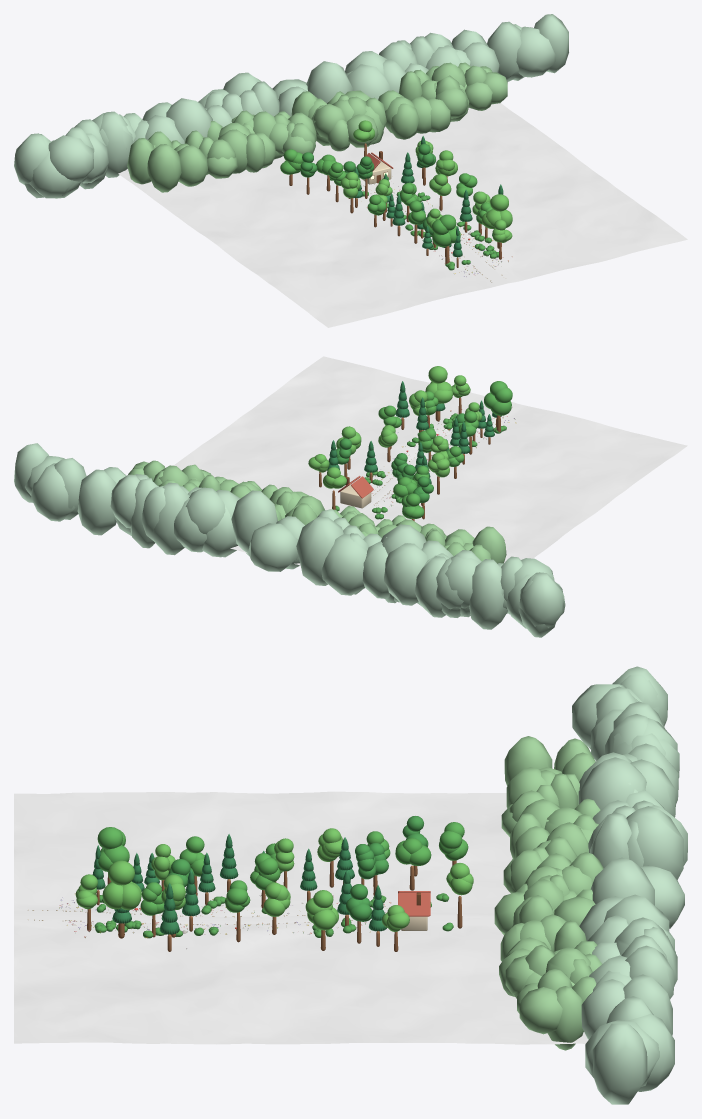
File: forest.glb
The picture shows the model from 3 angles, top to bottom: view 1: azimuth 30°, elevation 25°; view 2: azimuth 150°, elevation 25°; view 3: azimuth 270°, elevation 25°; orthographic projection. The views are drawn at different scales.
Parts seen in each view (by area): view 1: Ground, FarForest2, FarForest, Path, Bushes, FrameL.Canopy, FrameR.Canopy; view 2: Ground, FarForest2, FarForest, Bushes, FrameL.Canopy, FrameR.Canopy, Path, Tree9.Canopy, Cottage.Body; view 3: Ground, FarForest2, FarForest, Path, Bushes, FrameR.Canopy, FrameL.Canopy, Tree17.Canopy, Tree9.Canopy, Tree20.Canopy, Tree0.Canopy, Tree50.Canopy (+4 smaller).
Boxes of the visible parts, x1,y1,x2,y2 form: Ground: (118, 103, 687, 327); FarForest2: (14, 14, 568, 198); FarForest: (127, 62, 507, 192); Path: (329, 153, 509, 285); Bushes: (330, 177, 498, 270); FrameL.Canopy: (432, 214, 460, 247); FrameR.Canopy: (482, 194, 512, 228); Ground: (174, 356, 687, 565); FarForest2: (14, 443, 565, 637); FarForest: (128, 460, 506, 563); Bushes: (332, 413, 506, 519); FrameL.Canopy: (484, 381, 512, 415); FrameR.Canopy: (425, 366, 452, 403); Path: (357, 401, 515, 512); Tree9.Canopy: (401, 493, 424, 518); Cottage.Body: (340, 485, 371, 508); Ground: (14, 791, 588, 1044); FarForest2: (572, 666, 687, 1104); FarForest: (494, 736, 603, 1050); Path: (14, 910, 494, 924); Bushes: (94, 893, 453, 938); FrameR.Canopy: (102, 860, 141, 910); FrameL.Canopy: (97, 827, 129, 871); Tree17.Canopy: (305, 890, 338, 930); Tree9.Canopy: (439, 822, 468, 860); Tree20.Canopy: (395, 838, 431, 865); Tree0.Canopy: (250, 853, 280, 890); Tree50.Canopy: (346, 884, 372, 921).
Bounding box in the file's own units: 121 × 15.51 × 90.9.
